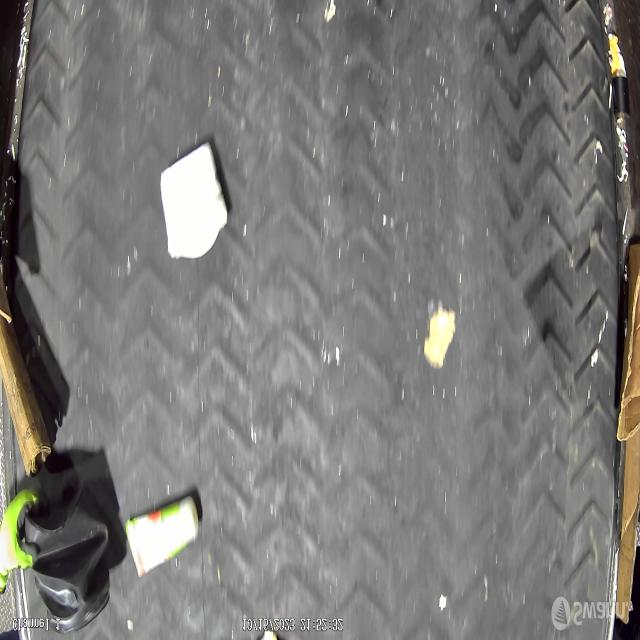non_white_jug: (23, 478, 114, 636)
